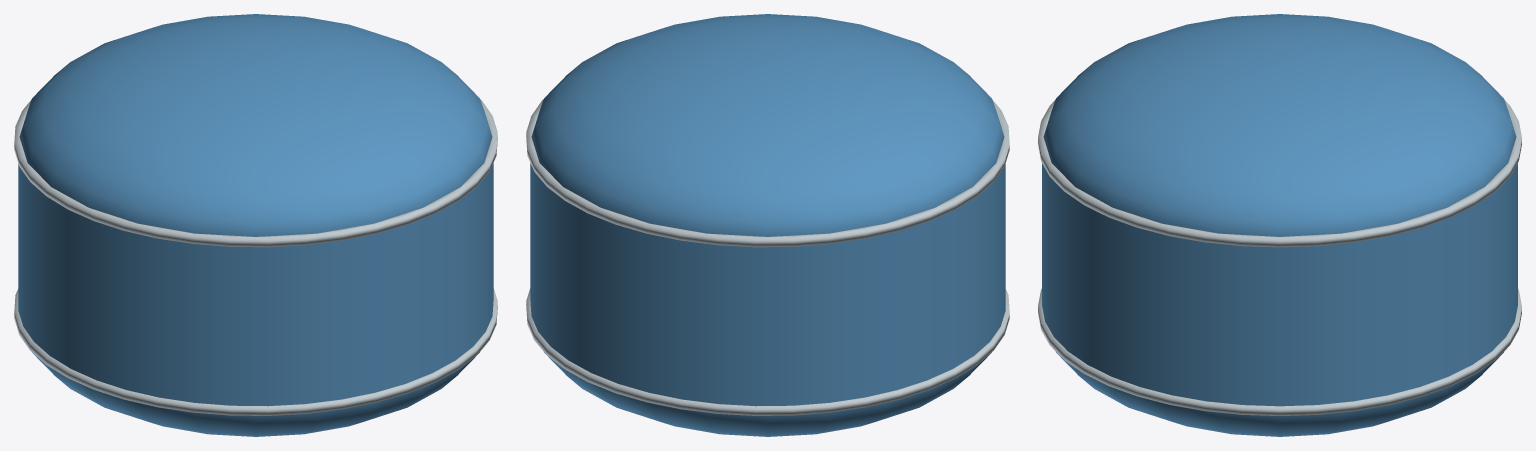
The model's file is icps_lox_vessel.glb.
The picture shows the model from 3 angles, left to right: view 1: azimuth 30°, elevation 25°; view 2: azimuth 150°, elevation 25°; view 3: azimuth 270°, elevation 25°; orthographic projection.
Visible parts, largest first — view 1: icpscutawayoxygenmesh_Cutaway_liquid_oxygen, icpscutawayoxygenmesh_Satin_aluminum; view 2: icpscutawayoxygenmesh_Cutaway_liquid_oxygen, icpscutawayoxygenmesh_Satin_aluminum; view 3: icpscutawayoxygenmesh_Cutaway_liquid_oxygen, icpscutawayoxygenmesh_Satin_aluminum.
Boxes of the visible parts, box(x1,y1,x2,y2) form: icpscutawayoxygenmesh_Cutaway_liquid_oxygen: box(18, 14, 493, 436); icpscutawayoxygenmesh_Satin_aluminum: box(14, 99, 497, 415); icpscutawayoxygenmesh_Cutaway_liquid_oxygen: box(530, 14, 1005, 436); icpscutawayoxygenmesh_Satin_aluminum: box(526, 99, 1009, 415); icpscutawayoxygenmesh_Cutaway_liquid_oxygen: box(1042, 14, 1517, 436); icpscutawayoxygenmesh_Satin_aluminum: box(1038, 100, 1521, 415).
Size of the model in its own units: 4.31 by 3.19 by 4.31.
